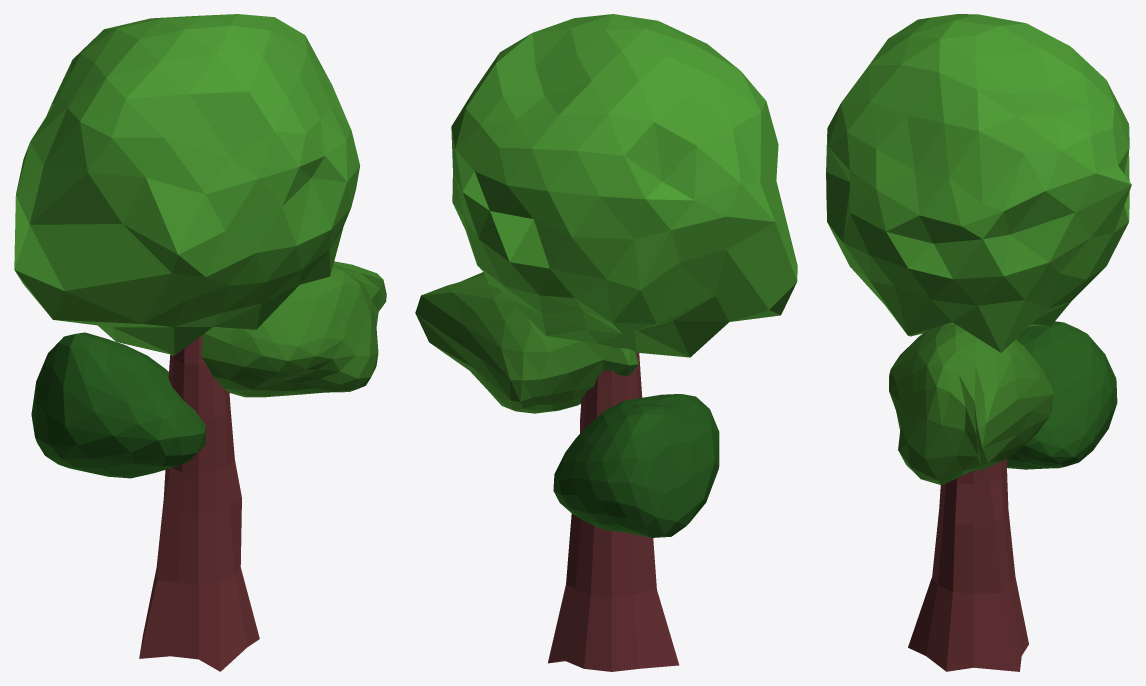
File: bigtree.fbx
3 views of the same model, side by side, from view 1: azimuth 30°, elevation 25°; view 2: azimuth 150°, elevation 25°; view 3: azimuth 270°, elevation 25° (orthographic).
Parts seen in each view (by area): view 1: Big tree; view 2: Big tree; view 3: Big tree.
Part boxes in pixels (box(x1,y1,x2,y2)): Big tree: box(14, 14, 386, 671); Big tree: box(415, 14, 797, 671); Big tree: box(826, 14, 1131, 671).
Size of the model in its own units: 259 by 412 by 184.
